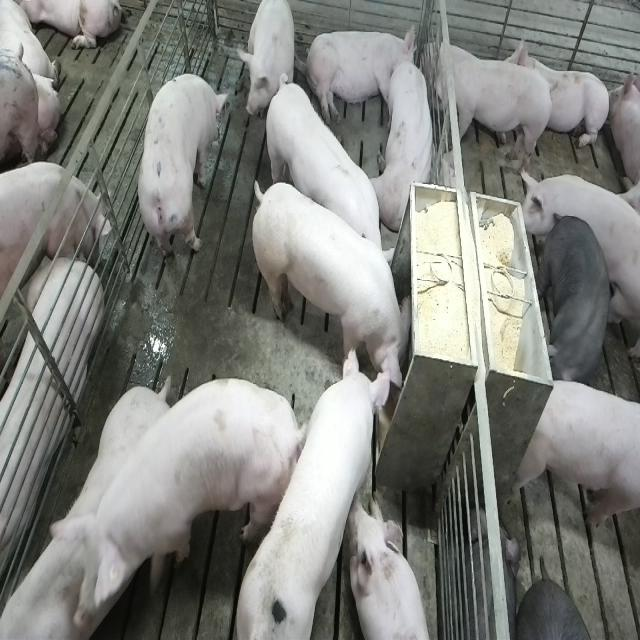Feeding: (230, 348, 390, 640), (254, 174, 419, 403)
Lateral_lying: (0, 241, 101, 622), (304, 23, 418, 128)
Sitting: (240, 2, 299, 124)
Standing: (1, 384, 189, 640), (128, 376, 302, 634), (261, 72, 395, 286), (514, 378, 639, 539), (136, 70, 228, 274), (423, 44, 555, 180), (0, 162, 109, 300), (0, 528, 122, 638)
Sternal_lying: (509, 30, 610, 152), (352, 493, 434, 640), (374, 57, 438, 232)
